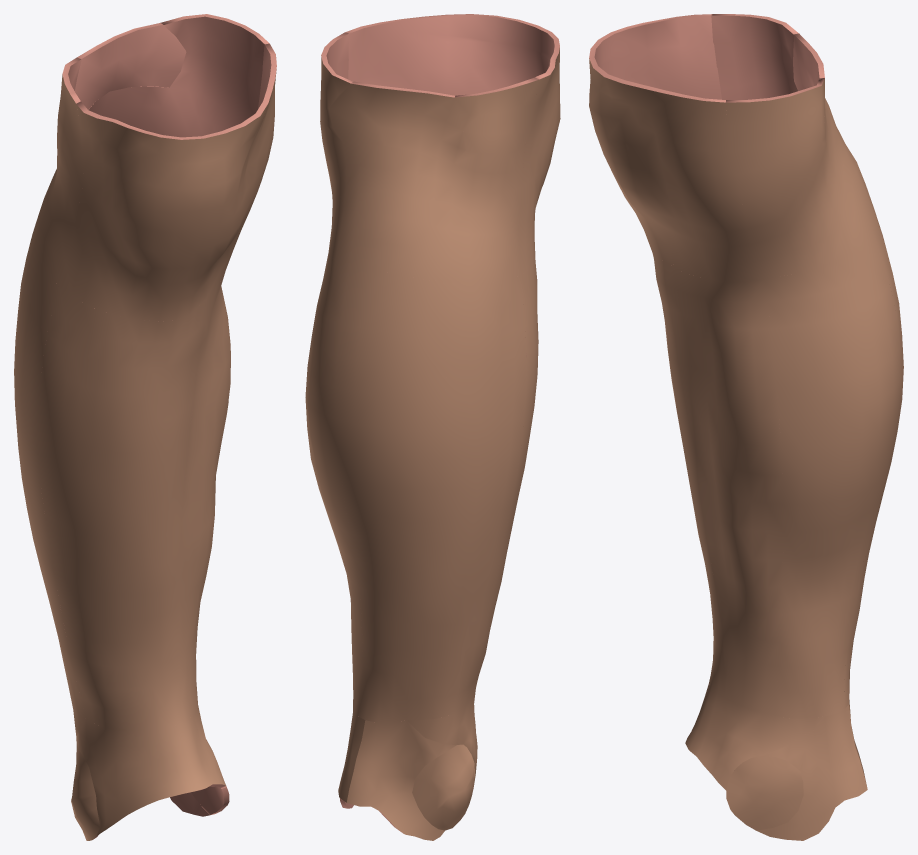
The model's file is skin.glb.
3 renders of one model, left to right at view 1: azimuth 30°, elevation 25°; view 2: azimuth 150°, elevation 25°; view 3: azimuth 270°, elevation 25°, orthographic. The views are drawn at different scales.
Visible parts, largest first — view 1: Anterior region of leg.r, Anterior region of knee.r, Posterior region of knee.r, Anterior region of ankle.r, Posterior region of leg.r, Popliteal fossa.r, Lateral malleolus.r, Medial malleolus.r, Medial retromalleolar region.r; view 2: Posterior region of leg.r, Posterior region of knee.r, Anterior region of knee.r, Popliteal fossa.r, Lateral retromalleolar region.r, Lateral malleolus.r, Anterior region of leg.r, Anterior region of ankle.r, Medial retromalleolar region.r; view 3: Posterior region of leg.r, Anterior region of leg.r, Anterior region of knee.r, Posterior region of knee.r, Medial retromalleolar region.r, Anterior region of ankle.r, Medial malleolus.r, Popliteal fossa.r.
Boxes of the visible parts, x1,y1,x2,y2 form: Anterior region of leg.r: (38,271,230,730); Anterior region of knee.r: (59,43,276,321); Posterior region of knee.r: (32,14,269,284); Anterior region of ankle.r: (73,705,226,835); Posterior region of leg.r: (14,235,85,719); Popliteal fossa.r: (74,23,186,109); Lateral malleolus.r: (71,748,99,840); Medial malleolus.r: (191,786,229,814); Medial retromalleolar region.r: (170,792,210,816); Posterior region of leg.r: (305,253,526,722); Posterior region of knee.r: (320,32,539,283); Anterior region of knee.r: (345,14,560,274); Popliteal fossa.r: (329,81,465,163); Lateral retromalleolar region.r: (346,720,456,840); Lateral malleolus.r: (412,744,474,830); Anterior region of leg.r: (466,262,538,703); Anterior region of ankle.r: (407,690,477,788); Medial retromalleolar region.r: (338,711,365,808); Posterior region of leg.r: (762,211,903,718); Anterior region of leg.r: (653,255,783,715); Anterior region of knee.r: (589,14,761,282); Posterior region of knee.r: (711,14,875,279); Medial retromalleolar region.r: (756,704,867,840); Anterior region of ankle.r: (685,684,824,790); Medial malleolus.r: (726,756,803,830); Popliteal fossa.r: (793,33,830,142).
Bounding box in the file's own units: 0.1302 × 0.4654 × 0.1724.
